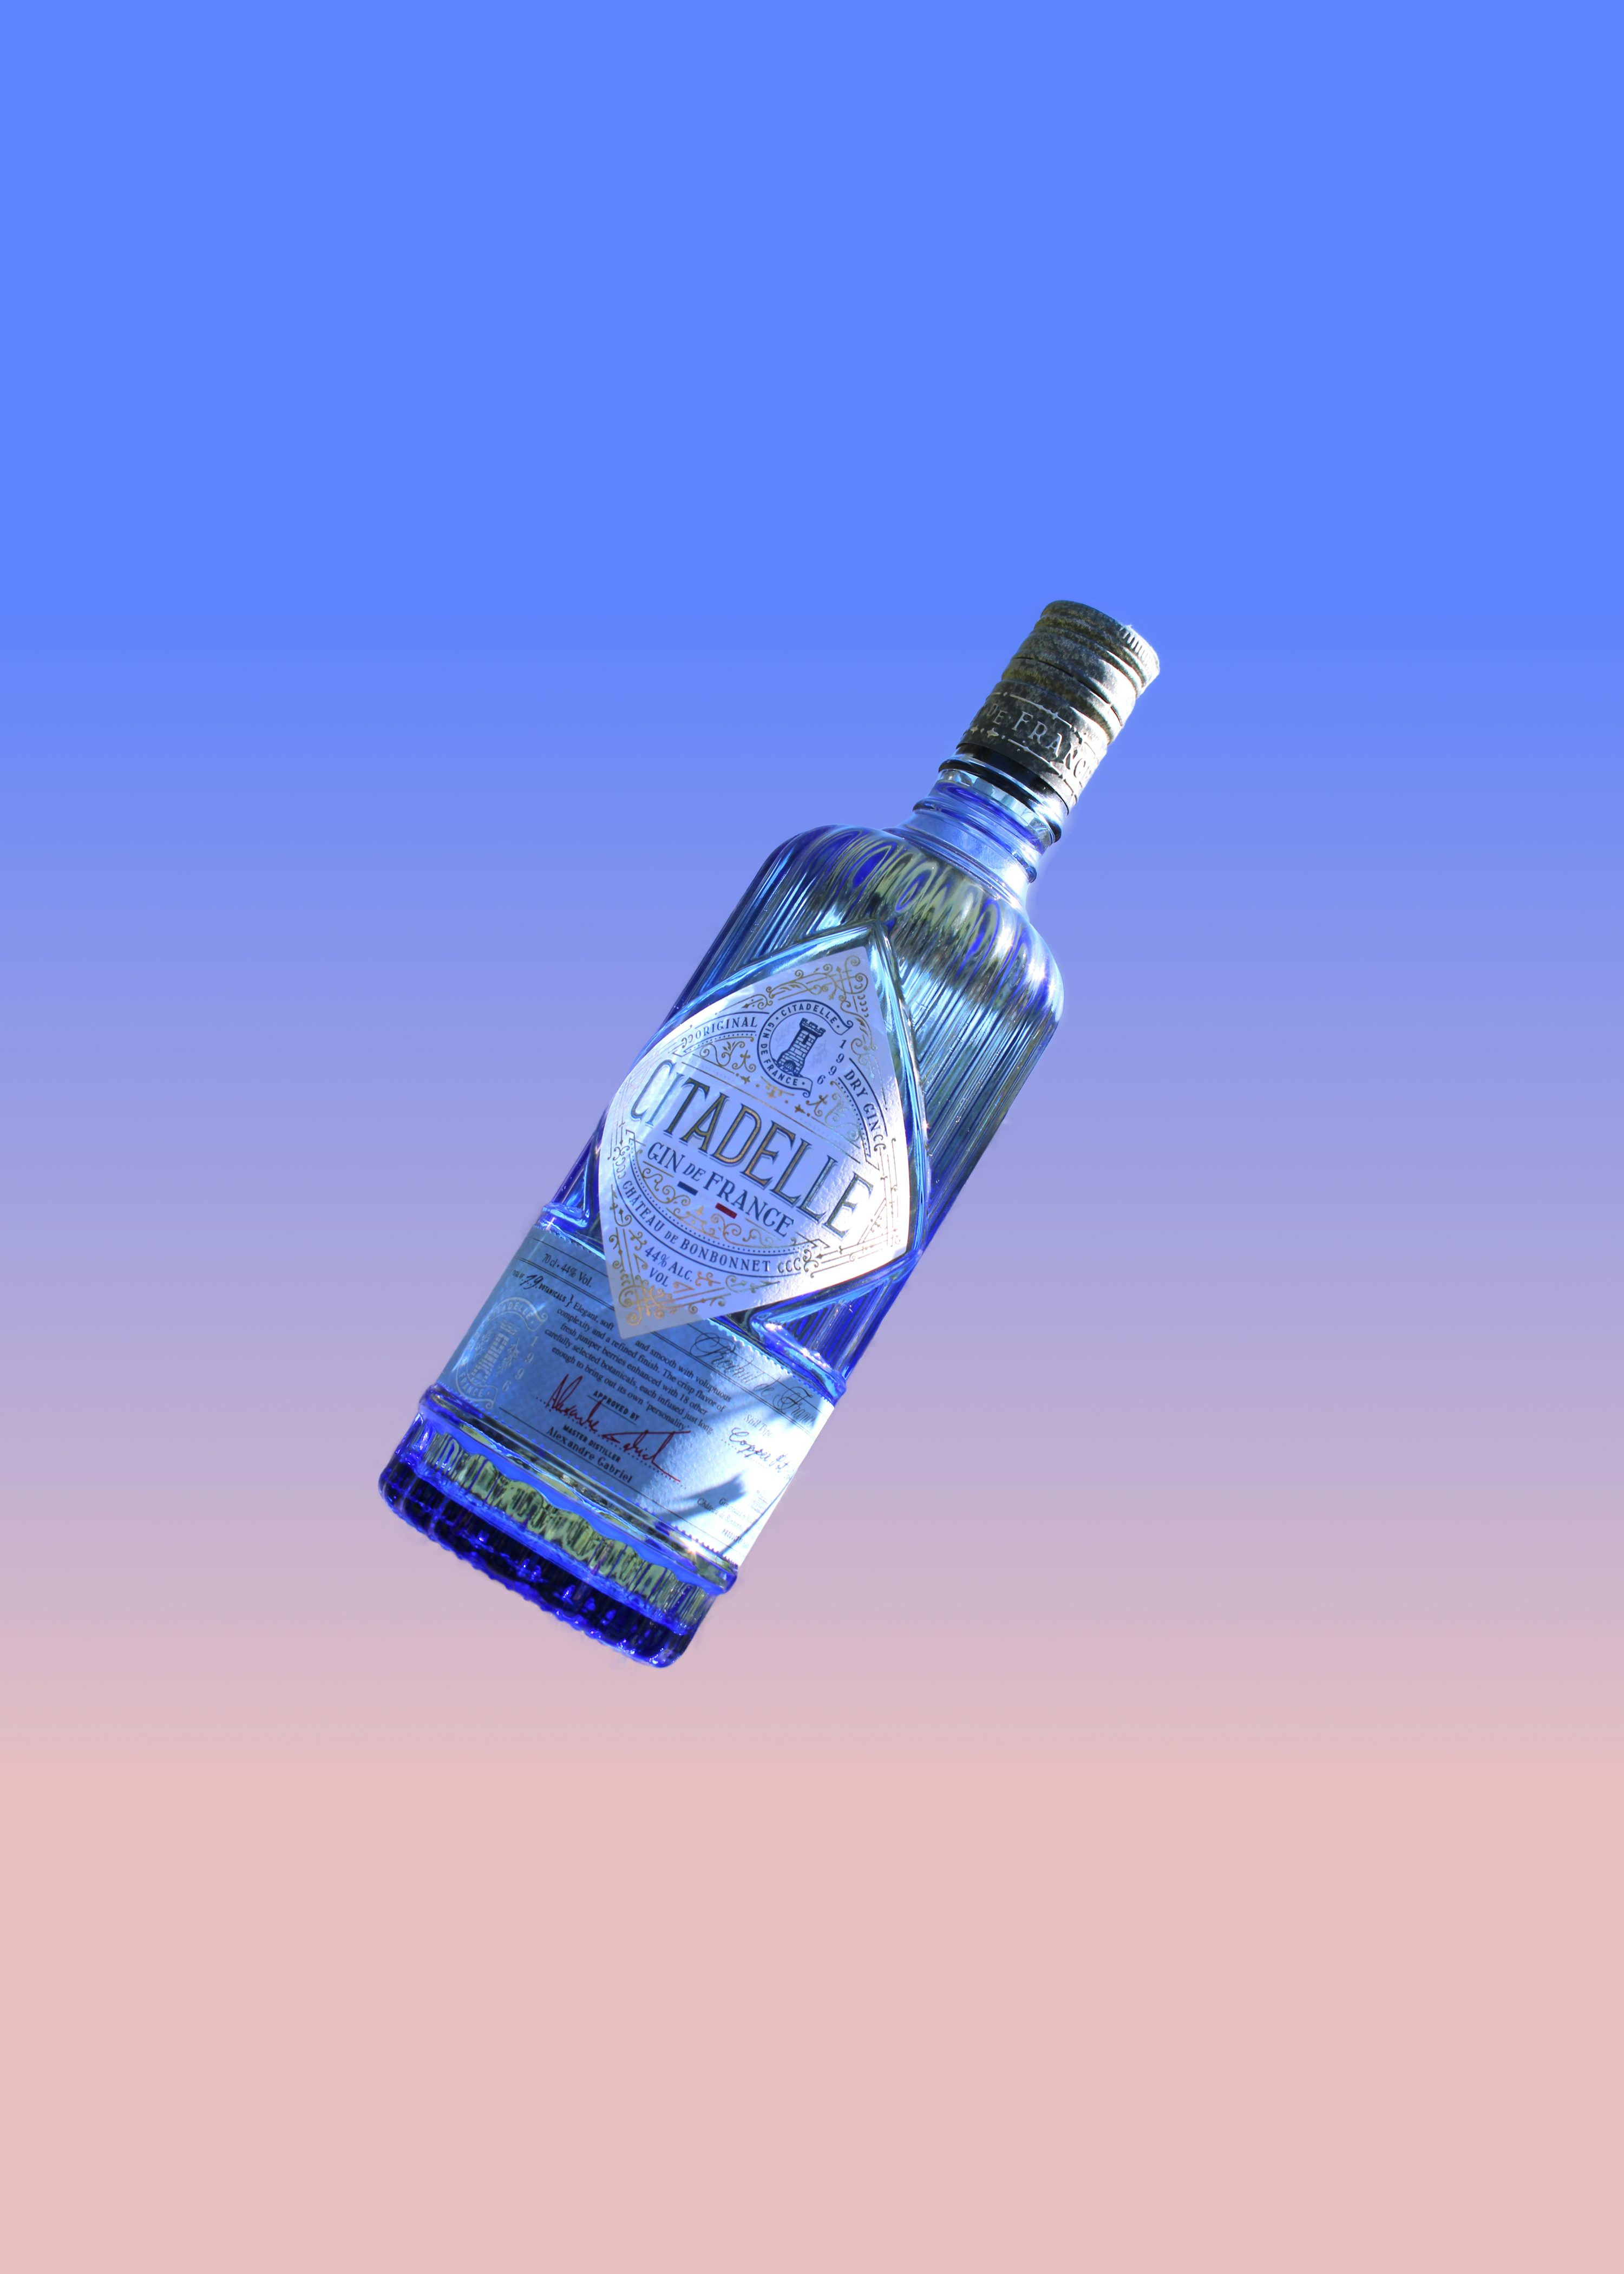glass_bottle: (302, 522, 1223, 1734)
